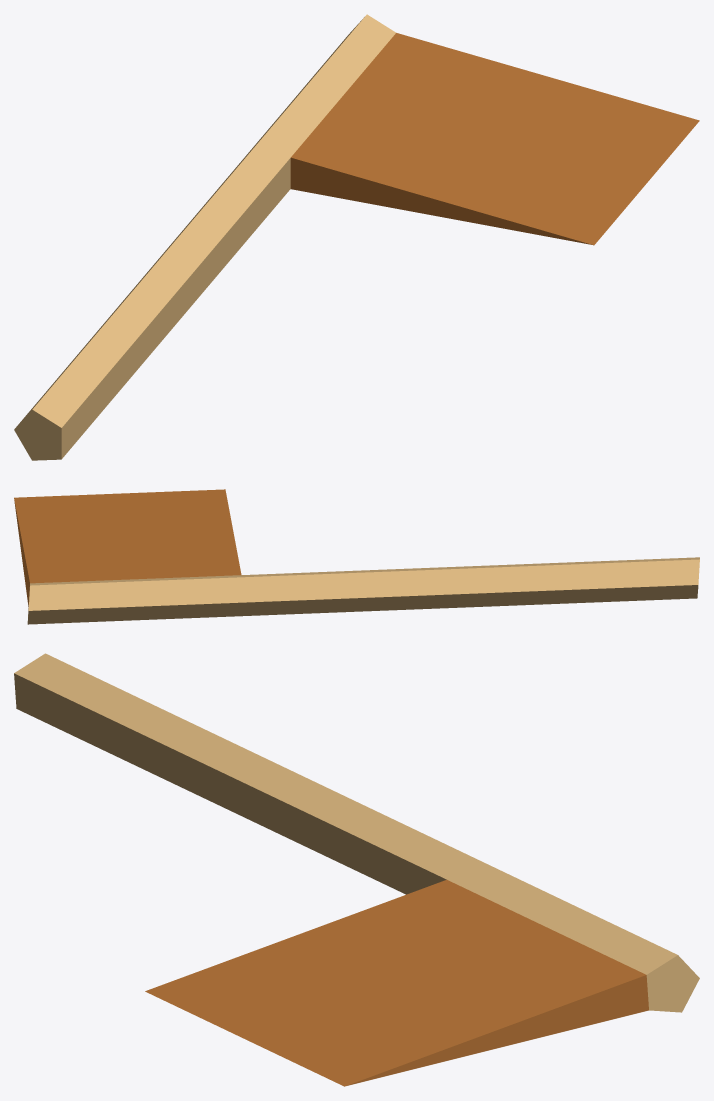
File: copper_hatchet.glb
The picture shows the model from 3 angles, top to bottom: view 1: azimuth 30°, elevation 25°; view 2: azimuth 150°, elevation 25°; view 3: azimuth 270°, elevation 25°; orthographic projection. The views are drawn at different scales.
Visible parts, largest first — view 1: copper_hatchet; view 2: copper_hatchet; view 3: copper_hatchet.
Part boxes in pixels (box(x1,y1,x2,y2)): copper_hatchet: box(14, 14, 699, 460); copper_hatchet: box(14, 489, 699, 624); copper_hatchet: box(14, 653, 699, 1086).
Size of the model in its own units: 0.3616 by 0.0335 by 0.2455.
